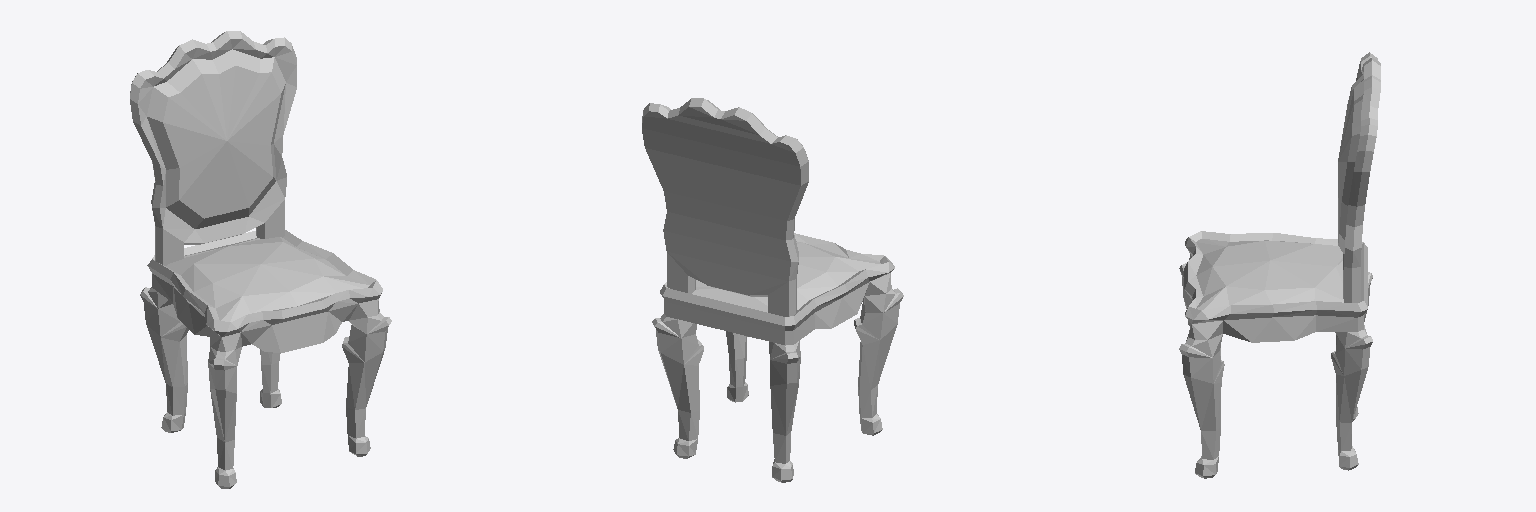
Rendered from chair.obj.
The picture shows the model from 3 angles: view 1: azimuth 30°, elevation 25°; view 2: azimuth 150°, elevation 25°; view 3: azimuth 270°, elevation 25°; orthographic projection.
Parts seen in each view (by area): view 1: chair_nice01_Mesh; view 2: chair_nice01_Mesh; view 3: chair_nice01_Mesh.
Part boxes in pixels (x1,y1,x2,y2): chair_nice01_Mesh: (130,31,391,488); chair_nice01_Mesh: (642,98,903,482); chair_nice01_Mesh: (1179,52,1380,478).
Size of the model in its own units: 0.6539 by 1.31 by 0.6397.